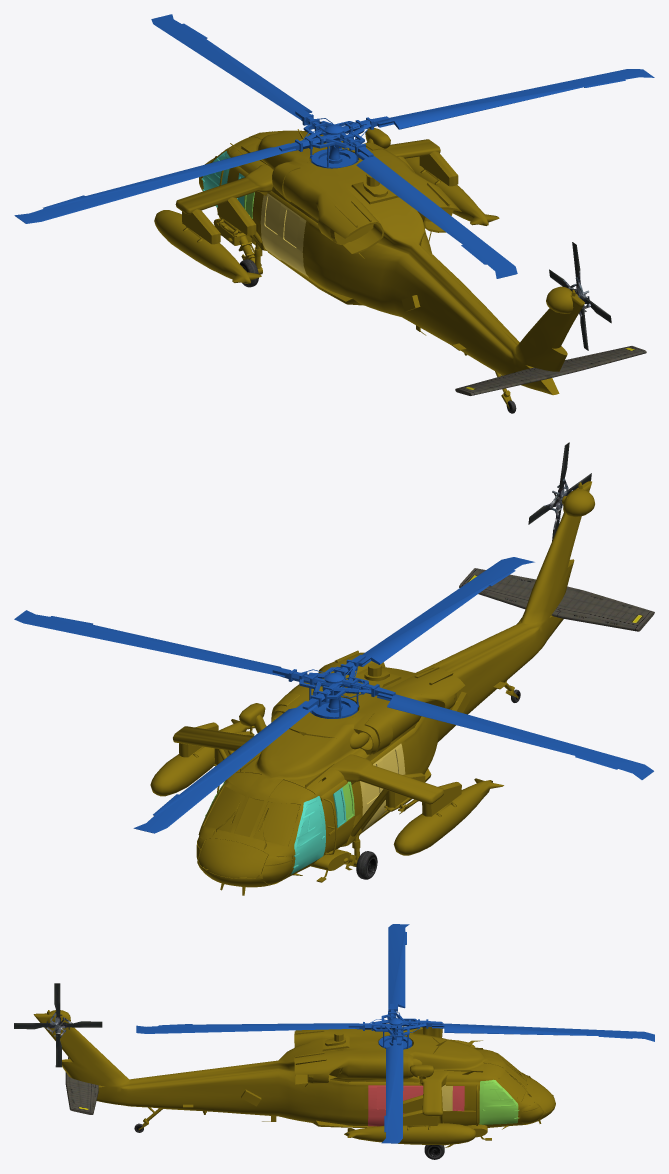
3 views of the same model, one above another, from view 1: azimuth 30°, elevation 25°; view 2: azimuth 150°, elevation 25°; view 3: azimuth 270°, elevation 25° (orthographic). The views are drawn at different scales.
Parts seen in each view (by area): view 1: fuselage, main_rotor, Door_L, elevator, rear_rotor; view 2: fuselage, main_rotor, elevator, cabinDoor_L, Door_L, rear_rotor; view 3: fuselage, main_rotor, cabinDoor_R, rear_rotor, Door_R, elevator.
Part boxes in pixels (<box>): fuselage: <box>154,127,584,408</box>; main_rotor: <box>14,14,654,278</box>; Door_L: <box>260,193,308,277</box>; elevator: <box>455,346,646,395</box>; rear_rotor: <box>549,242,611,350</box>; fuselage: <box>150,481,594,895</box>; main_rotor: <box>14,557,653,833</box>; elevator: <box>459,568,654,631</box>; cabinDoor_L: <box>291,796,325,874</box>; Door_L: <box>360,743,405,831</box>; rear_rotor: <box>528,442,591,540</box>; fuselage: <box>33,1010,555,1147</box>; main_rotor: <box>136,924,654,1143</box>; cabinDoor_R: <box>479,1079,519,1124</box>; rear_rotor: <box>14,983,102,1067</box>; Door_R: <box>368,1085,423,1126</box>; elevator: <box>65,1057,98,1114</box>.
Size of the model in its own units: 15.93 by 5.34 by 19.69.
